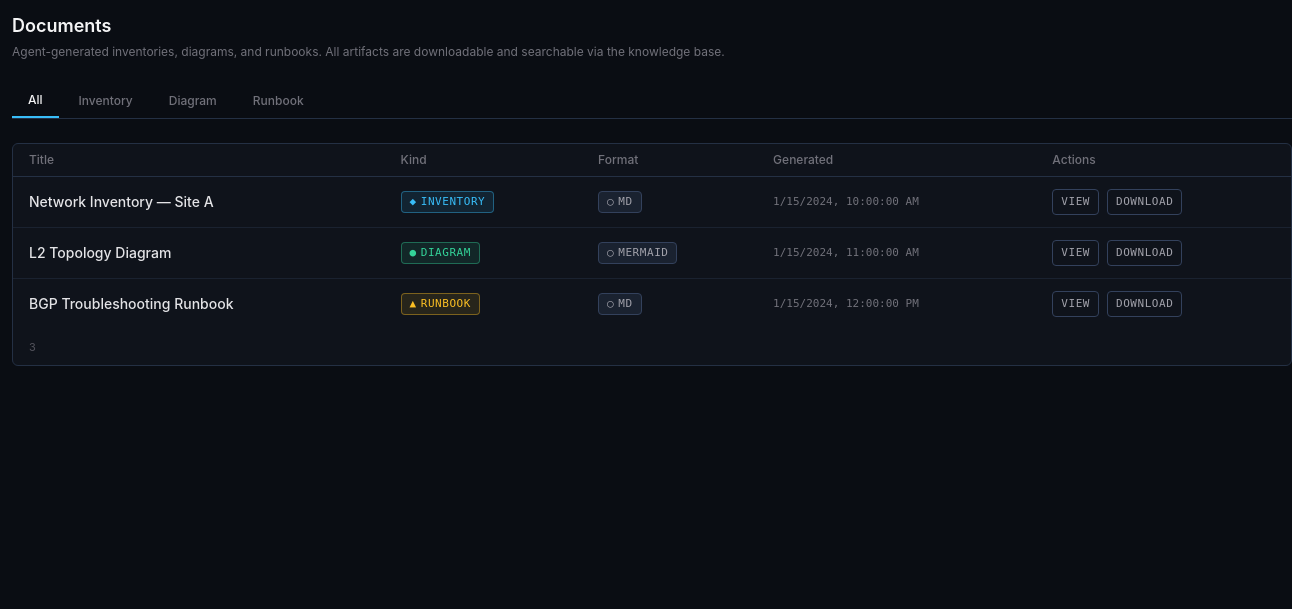
Test: DocumentsPage — Mermaid render panel › clicking View on a mermaid doc shows the mermaid panel
What coordinates should you click on to do the following:
click the button "View" in the row of "L2 Topology Diagram"
I would click on:
 (1076, 253)
Its box is left=1052, top=240, right=1099, bottom=266.
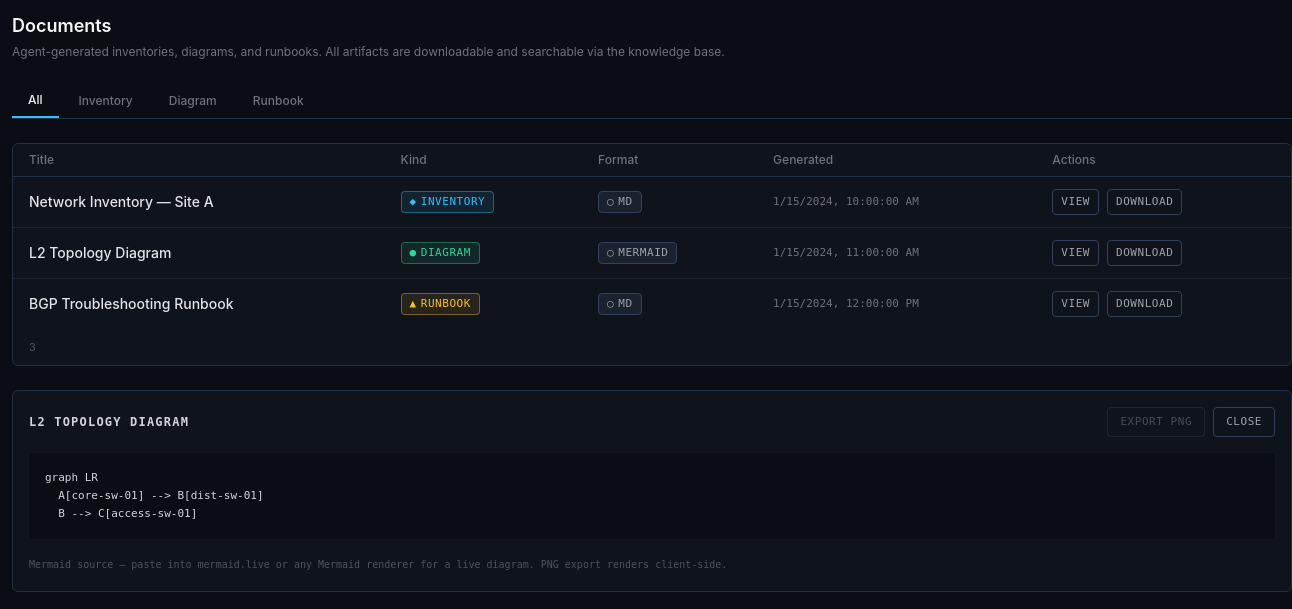
Expected: the element with test id "mermaid-panel" is shown, left=12, top=390, right=1291, bottom=592
